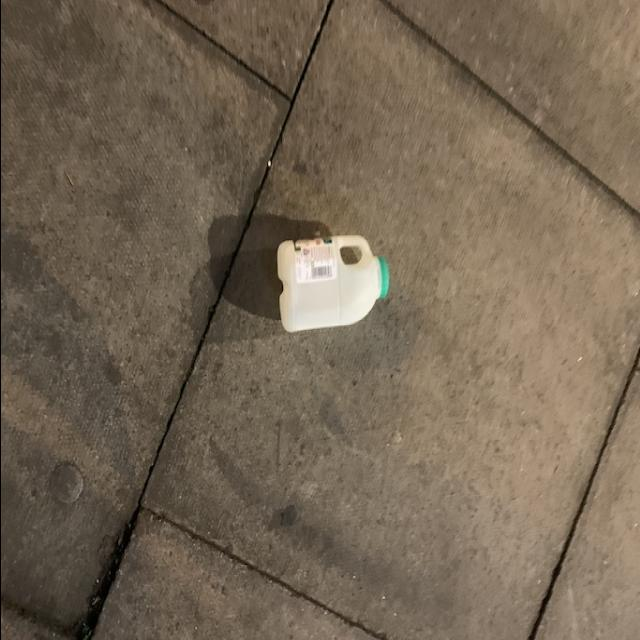HDPEM: (264, 218, 394, 348)
